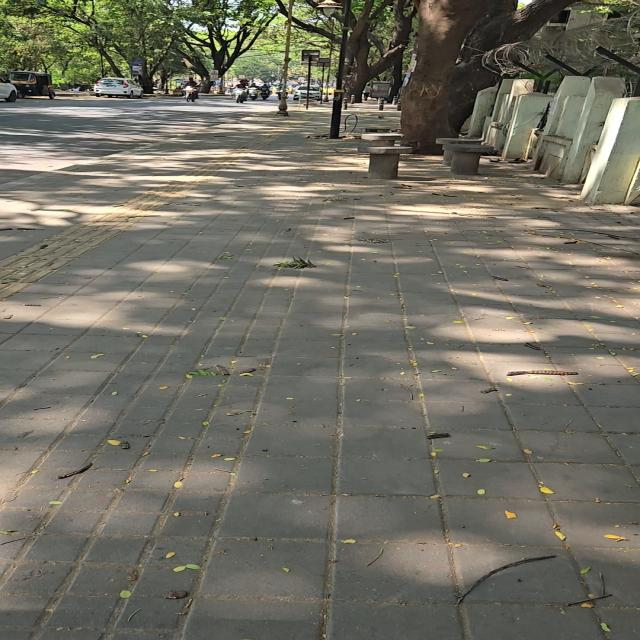obstacle: (402, 0, 572, 153), (450, 0, 573, 131), (449, 0, 571, 131), (13, 0, 181, 91), (402, 0, 490, 153), (402, 0, 487, 154), (174, 0, 277, 92), (345, 0, 415, 101), (329, 0, 351, 138), (277, 0, 293, 116), (360, 146, 412, 179), (444, 144, 492, 175), (324, 18, 334, 102), (387, 57, 404, 102), (361, 133, 402, 146), (435, 138, 482, 146), (139, 73, 153, 93), (306, 56, 311, 109), (200, 76, 213, 93), (320, 65, 325, 102)
vehical: (233, 86, 247, 103), (185, 86, 197, 102), (249, 86, 258, 100), (261, 86, 270, 99)
